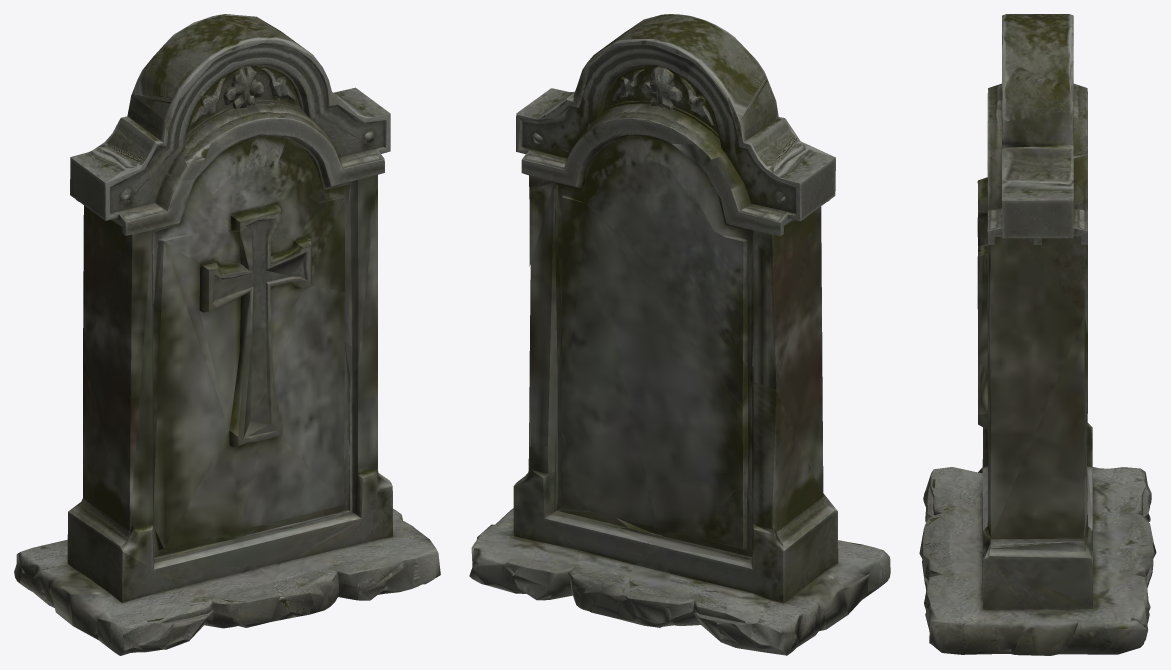
File: mx_pr_gravestone.glb
3 renders of one model, left to right at view 1: azimuth 30°, elevation 25°; view 2: azimuth 150°, elevation 25°; view 3: azimuth 270°, elevation 25°, orthographic.
Size of the model in its own units: 1.2 by 1.9 by 0.7402.
Materials: 1 (1 with a texture image).
